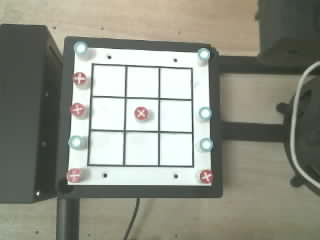blue circle: (73, 41, 87, 55), (69, 136, 83, 149), (199, 107, 211, 120), (200, 138, 212, 151), (198, 48, 209, 60)
board: (67, 42, 213, 186)
cells: (89, 132, 122, 164), (125, 132, 157, 165), (91, 98, 124, 129), (126, 99, 158, 130), (160, 134, 192, 165), (92, 65, 124, 96), (160, 100, 191, 131), (160, 68, 191, 98), (127, 67, 158, 97)
grid: (87, 64, 193, 167)
red cross: (66, 168, 81, 183), (70, 103, 86, 117), (134, 106, 148, 120), (72, 72, 86, 85), (200, 169, 212, 183)
